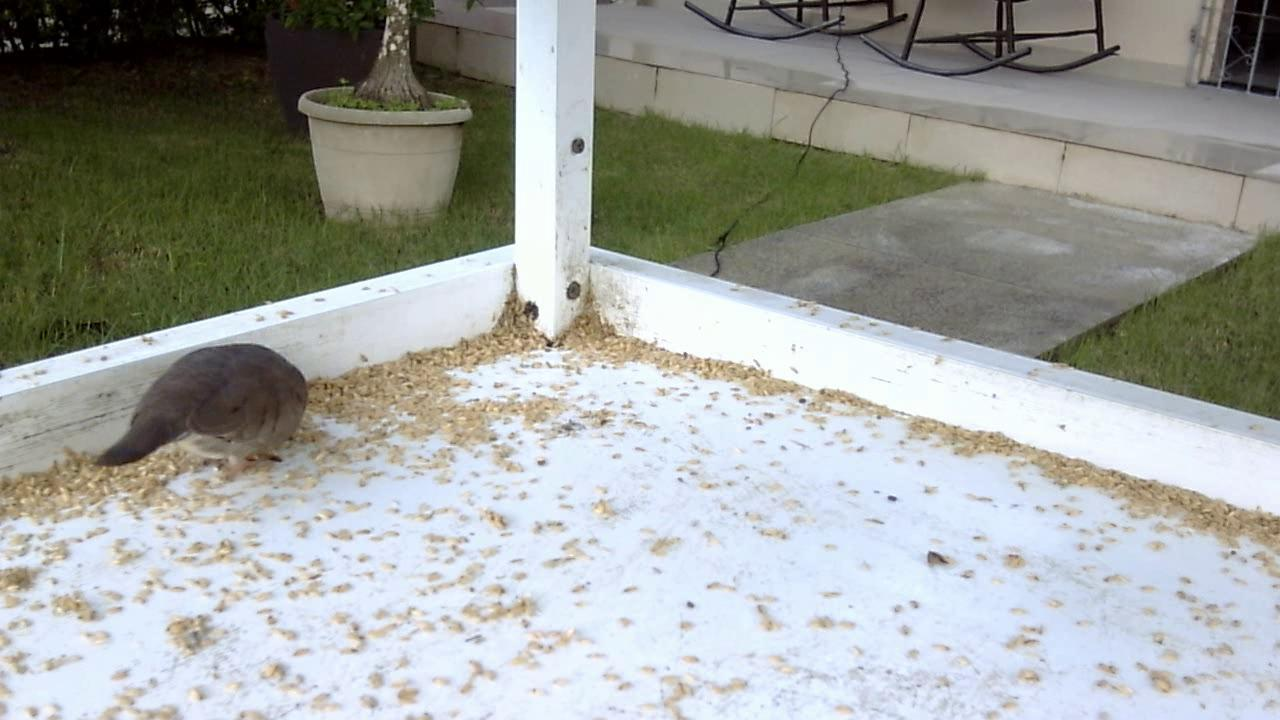rolinha: (86, 335, 313, 491)
